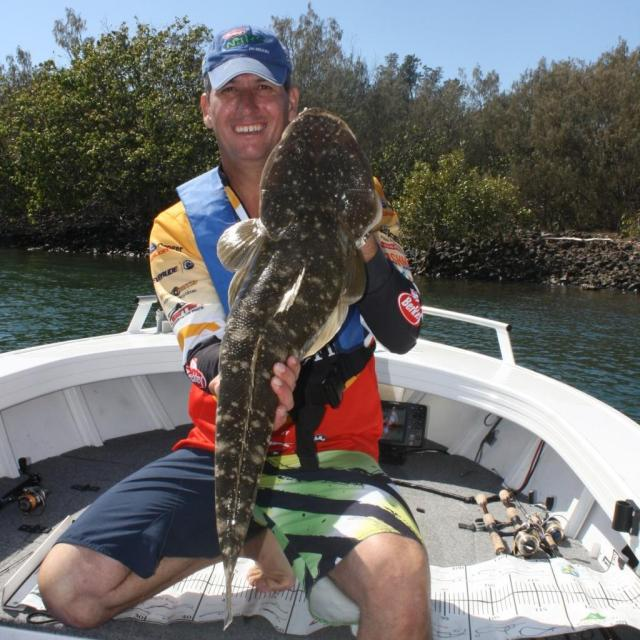Face: (216, 70, 289, 159)
